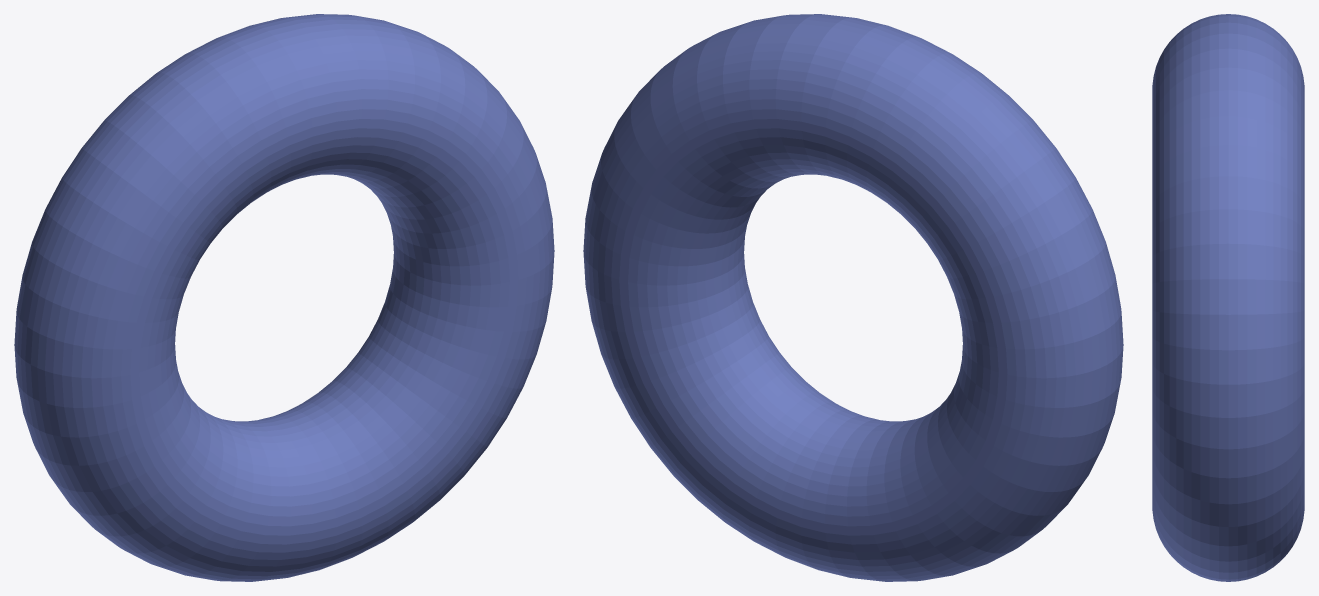
3 renders of one model, left to right at view 1: azimuth 30°, elevation 25°; view 2: azimuth 150°, elevation 25°; view 3: azimuth 270°, elevation 25°, orthographic. The views are drawn at different scales.
Parts seen in each view (by area): view 1: world; view 2: world; view 3: world.
Boxes of the visible parts, <box> form: world: <box>14,14,554,581</box>; world: <box>583,14,1123,581</box>; world: <box>1152,14,1304,581</box>.
Bounding box in the file's own units: 16.4 × 16.37 × 4.39.
